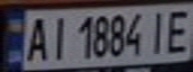1: (72, 11, 93, 60)
4: (124, 9, 148, 56)
8: (90, 11, 112, 58), (109, 10, 130, 57)
A: (21, 14, 51, 63)
E: (163, 6, 193, 55)
I: (45, 12, 72, 61), (145, 7, 172, 55)
